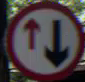Two way: (5, 5, 74, 69)
